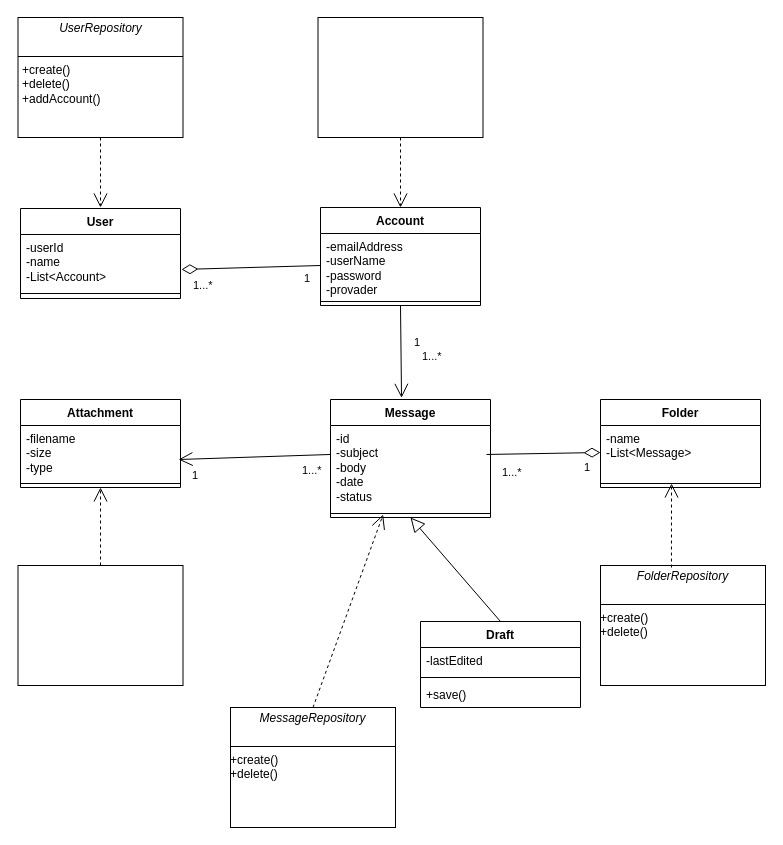
This 783x845 diagram has some shape labels left out. The shapes that lost their labels are listed below. From the top down, each one's centre as x and y in pixels, then its label:
At (400,77): "AccountRepository +findByEmail() +save() +delete()".
At (100,625): "AttachmentRepository +add() +delete()".
